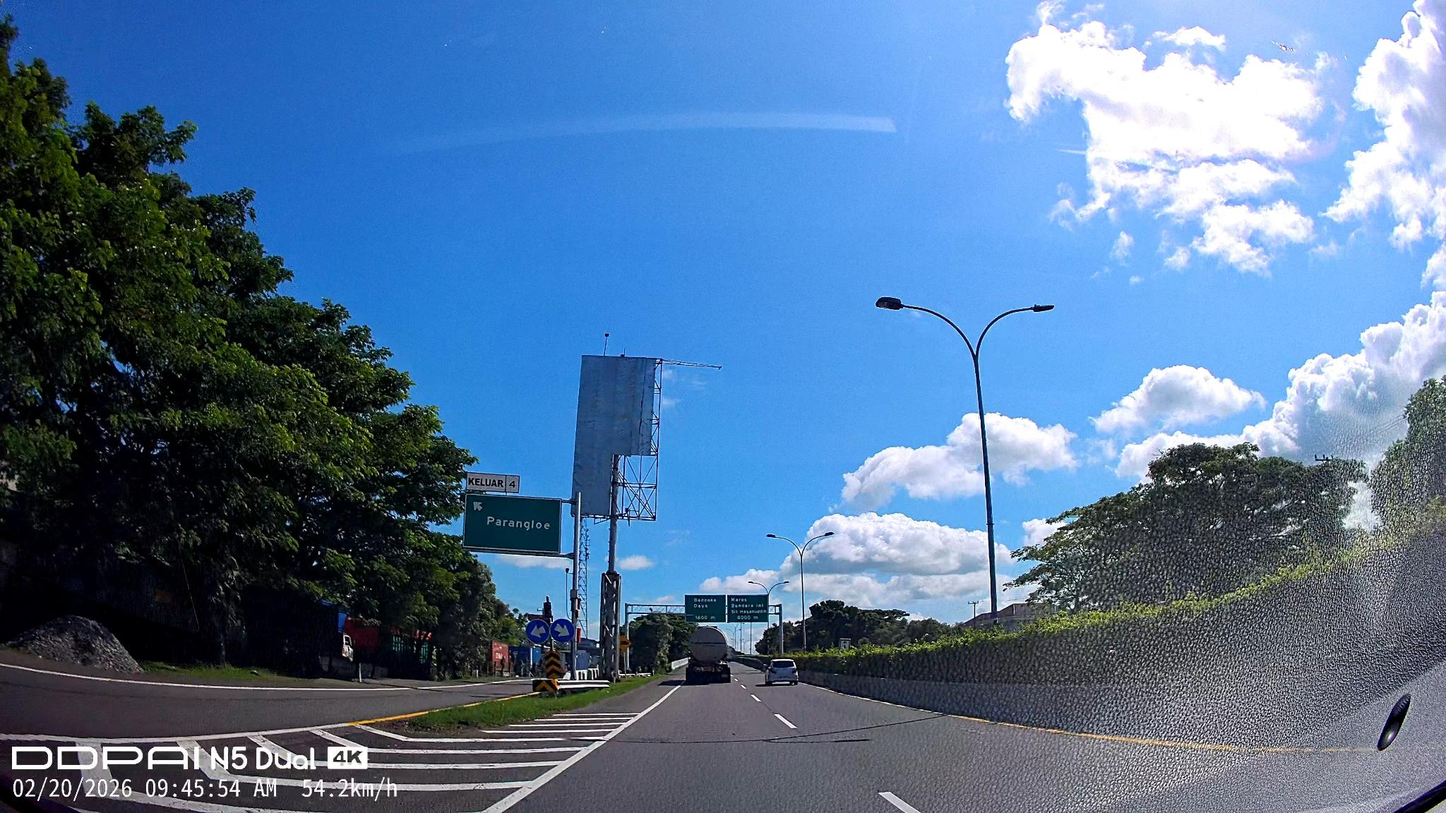rambu_teks: (461, 491, 563, 555)
